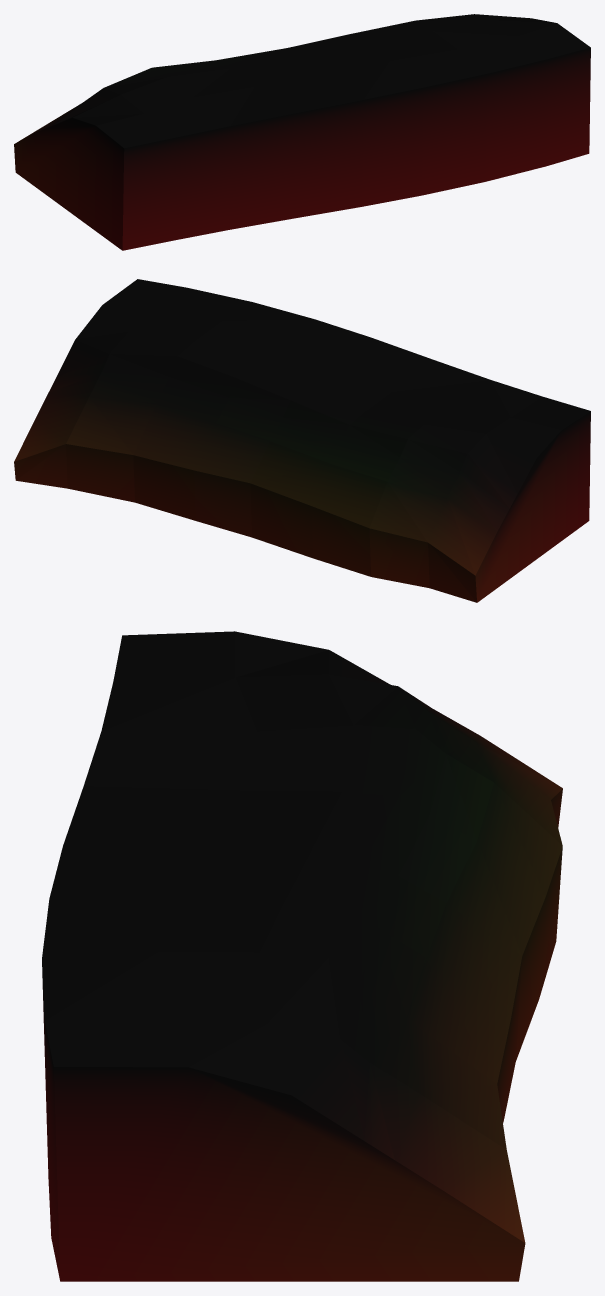
The model's file is SM_ShorelineSite_BankLow.fbx.
3 renders of one model, top to bottom at view 1: azimuth 30°, elevation 25°; view 2: azimuth 150°, elevation 25°; view 3: azimuth 270°, elevation 25°, orthographic. The views are drawn at different scales.
Parts seen in each view (by area): view 1: SM_ShorelineSite_BankLow; view 2: SM_ShorelineSite_BankLow; view 3: SM_ShorelineSite_BankLow.
Part boxes in pixels (x1=…): SM_ShorelineSite_BankLow: x1=14, y1=14, x2=590, y2=250; SM_ShorelineSite_BankLow: x1=14, y1=279, x2=590, y2=602; SM_ShorelineSite_BankLow: x1=42, y1=631, x2=562, y2=1281.
Size of the model in its own units: 4 by 2.01 by 0.9553.
